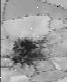good_void: (6, 35, 48, 75)
